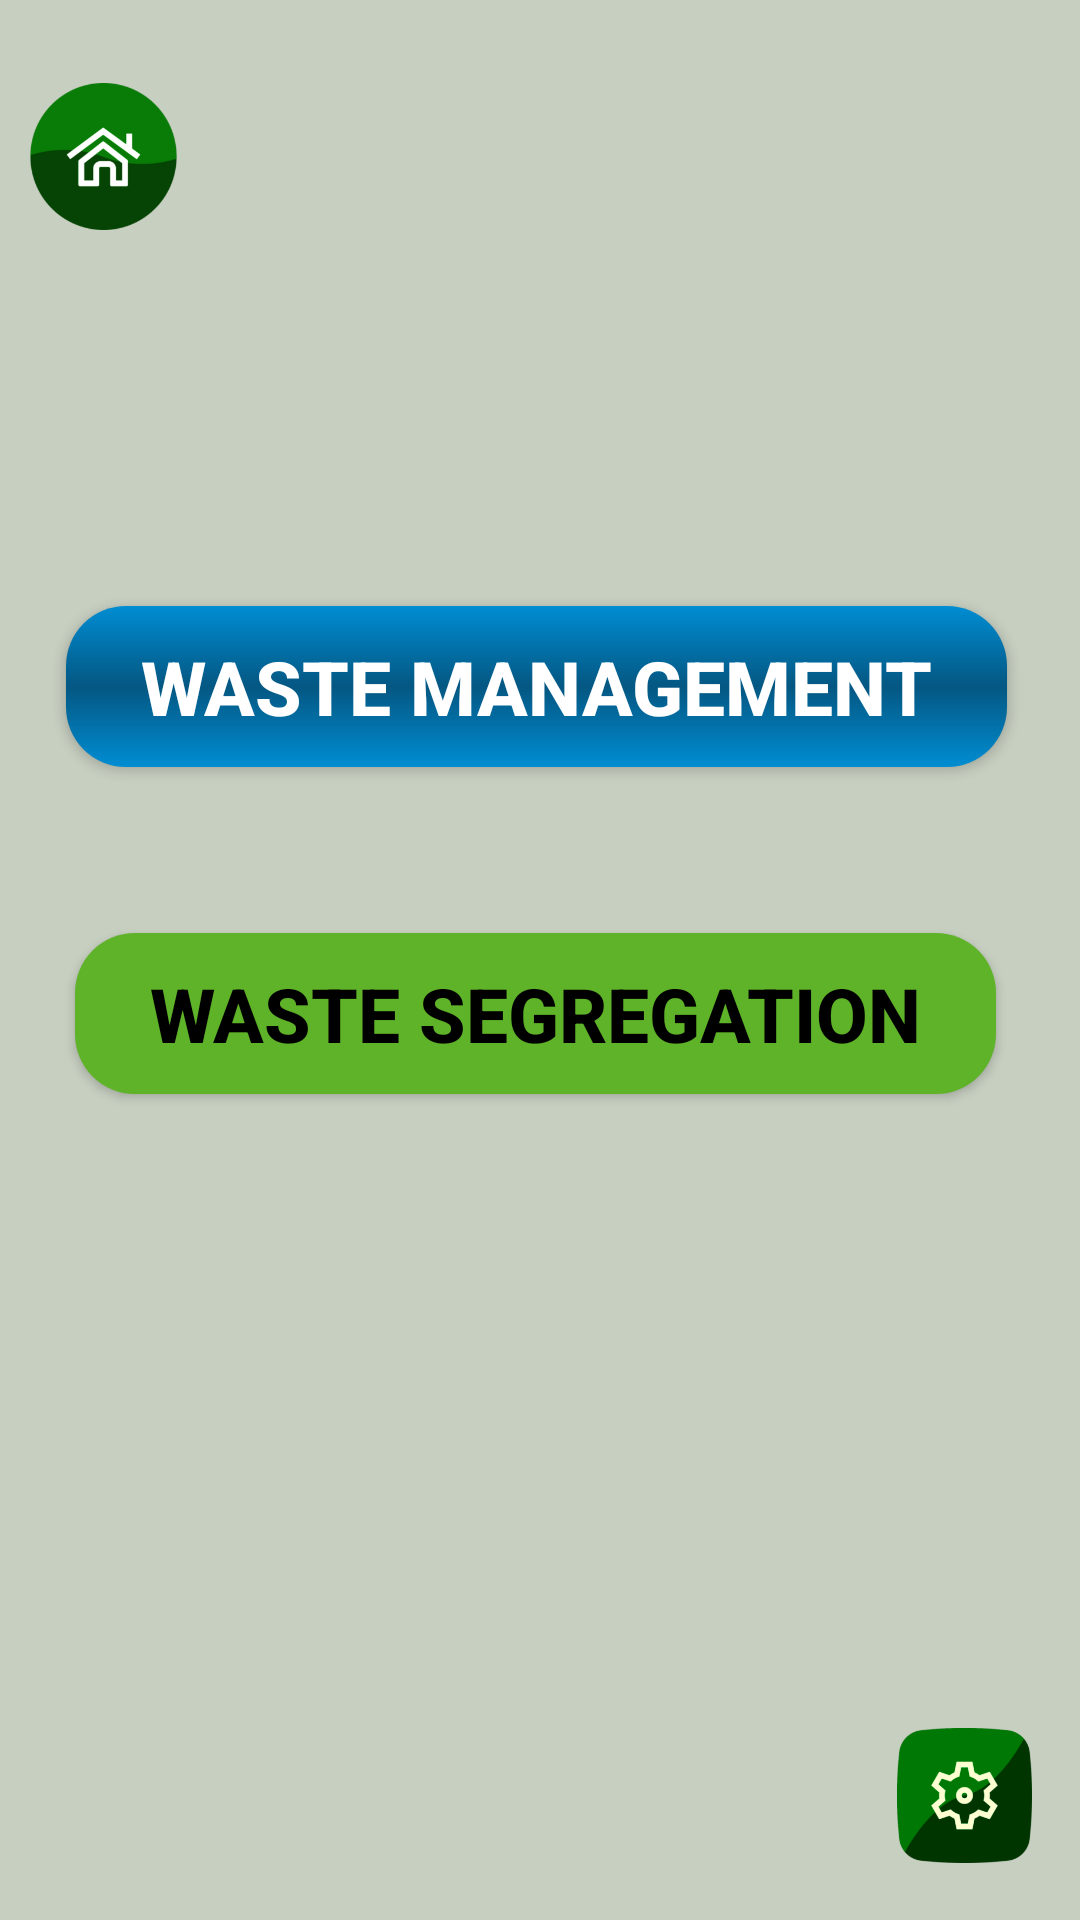

Locate icon controls on the screen. Image size 1080 x 1920, boxes as (x1, y1, x2, y2).
Navigate to homepage: (30, 83, 177, 230)
Navigate to settings: (897, 1728, 1032, 1863)
